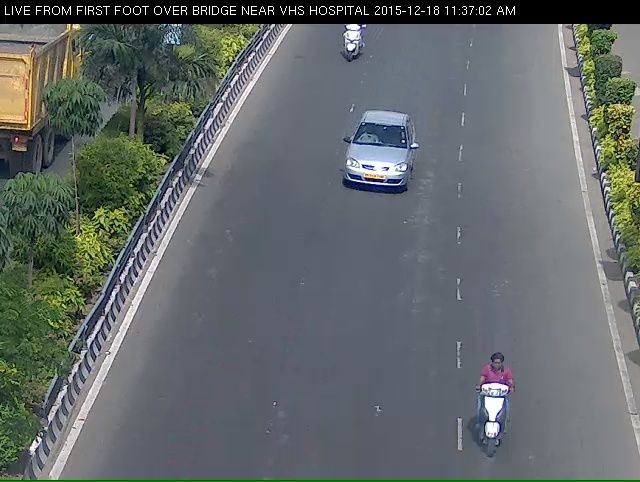Car: (321, 124, 422, 218)
Person: (470, 396, 521, 478), (334, 24, 374, 78)
